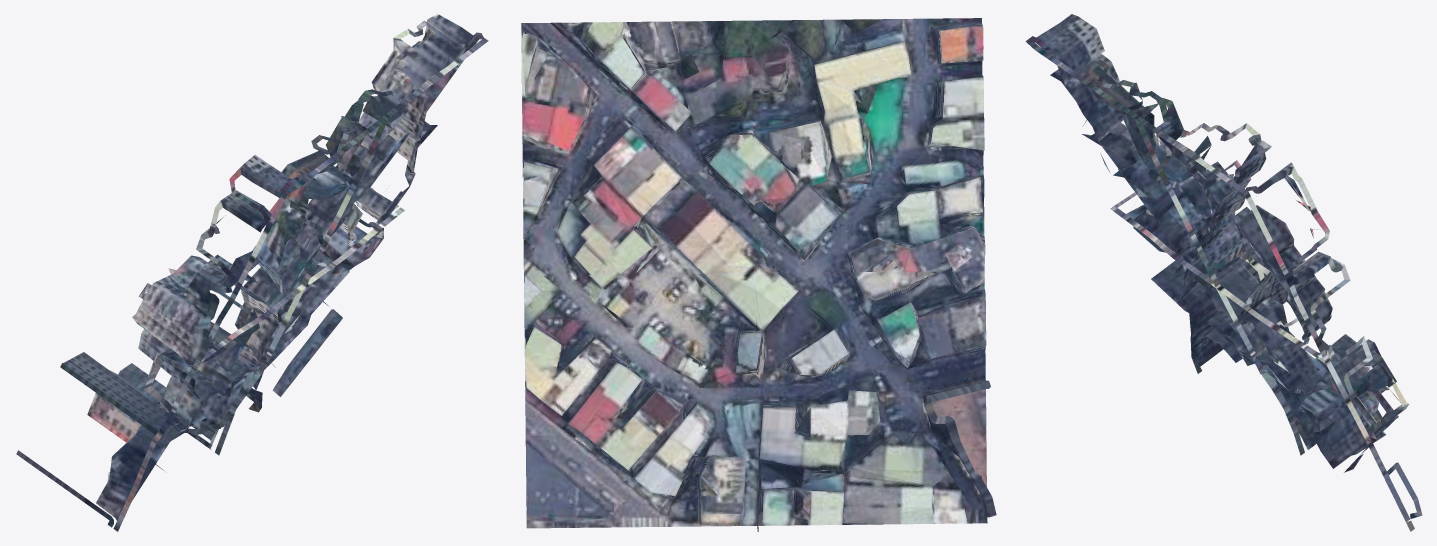
3 views of the same model, side by side, from view 1: azimuth 30°, elevation 25°; view 2: azimuth 150°, elevation 25°; view 3: azimuth 270°, elevation 25° (orthographic). The views are drawn at different scales.
Bounding box in the file's own units: 174 × 147 × 131.
Materials: 1 (1 with a texture image).
